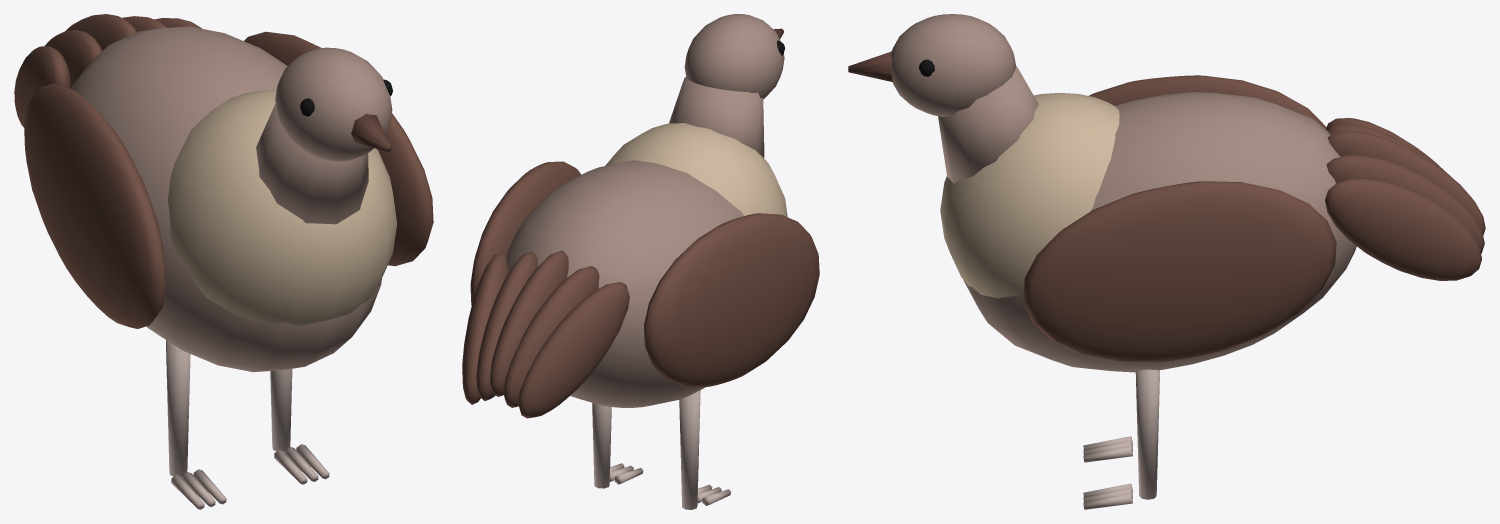
Rendered from quail.glb.
The picture shows the model from 3 angles, left to right: view 1: azimuth 30°, elevation 25°; view 2: azimuth 150°, elevation 25°; view 3: azimuth 270°, elevation 25°; orthographic projection. The views are drawn at different scales.
Visible parts, largest first — view 1: quail; view 2: quail; view 3: quail.
Boxes of the visible parts, x1,y1,x2,y2 form: quail: [14, 14, 433, 509]; quail: [462, 14, 819, 509]; quail: [848, 14, 1485, 509].
Size of the model in its own units: 0.2222 by 0.3515 by 0.439.
